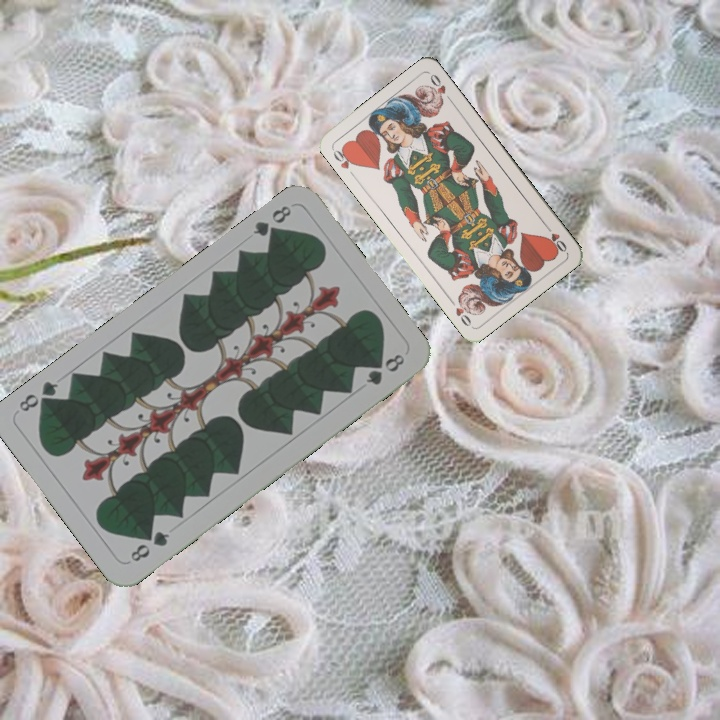G8: (249, 201, 294, 243), (126, 527, 172, 565)
HO: (540, 220, 570, 255), (328, 143, 359, 171)
